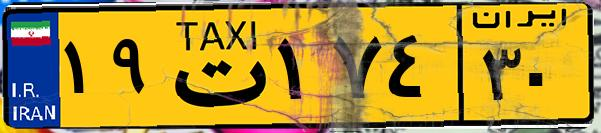0: (525, 38, 570, 115)
1: (270, 28, 330, 110), (57, 26, 110, 100)
3: (475, 38, 525, 113)
4: (385, 28, 445, 110)
7: (330, 28, 385, 110)
9: (110, 28, 158, 98)
ت: (158, 12, 270, 120)
